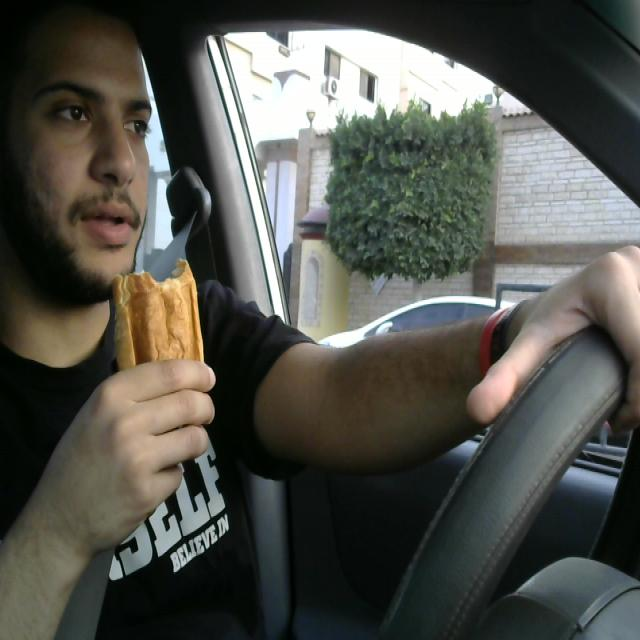eating: (113, 263, 210, 474)
